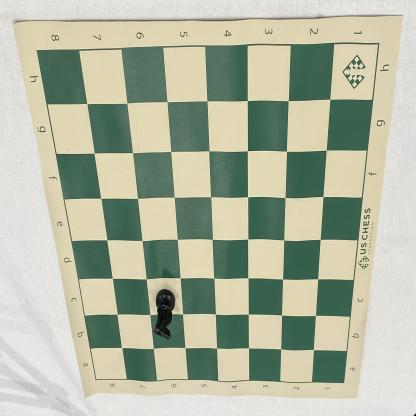black-knight: (154, 288, 176, 342)
